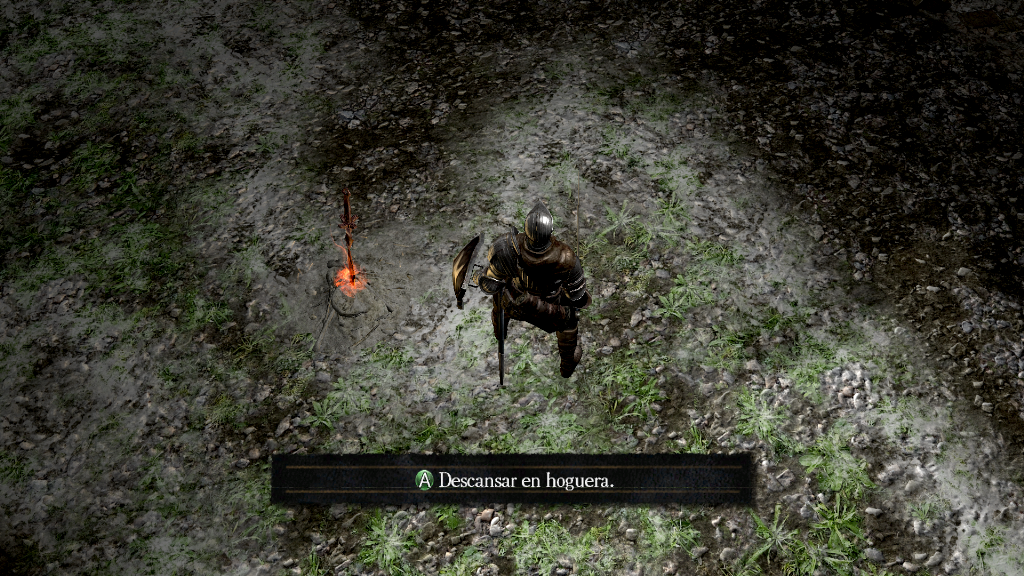bonfire: (317, 186, 379, 317)
dialogBox: (272, 456, 756, 506)
player: (450, 196, 594, 380)
